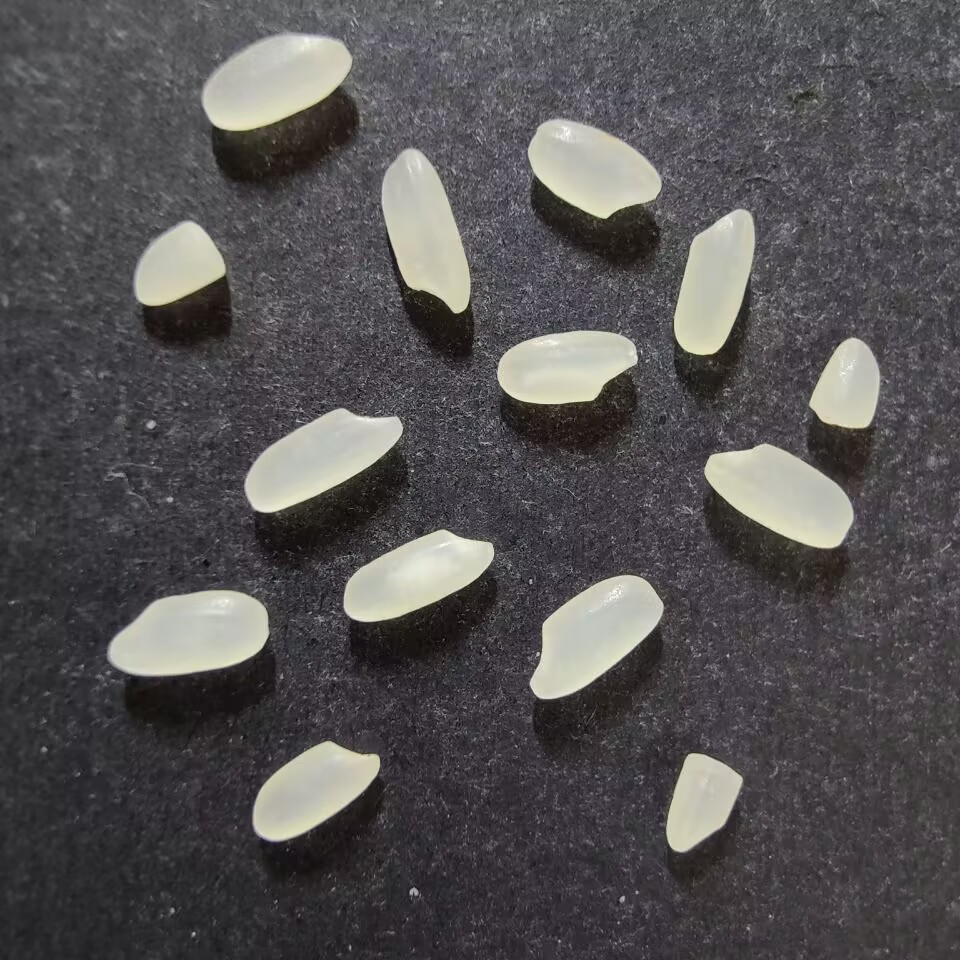broken: (133, 219, 226, 307), (665, 753, 743, 853), (807, 336, 880, 429)
rice: (528, 574, 664, 700), (243, 407, 403, 513), (703, 442, 854, 549), (380, 148, 470, 315), (201, 33, 352, 131), (342, 528, 494, 623), (106, 589, 269, 677), (526, 119, 661, 220), (251, 739, 380, 842), (672, 207, 755, 355), (496, 329, 639, 405)
